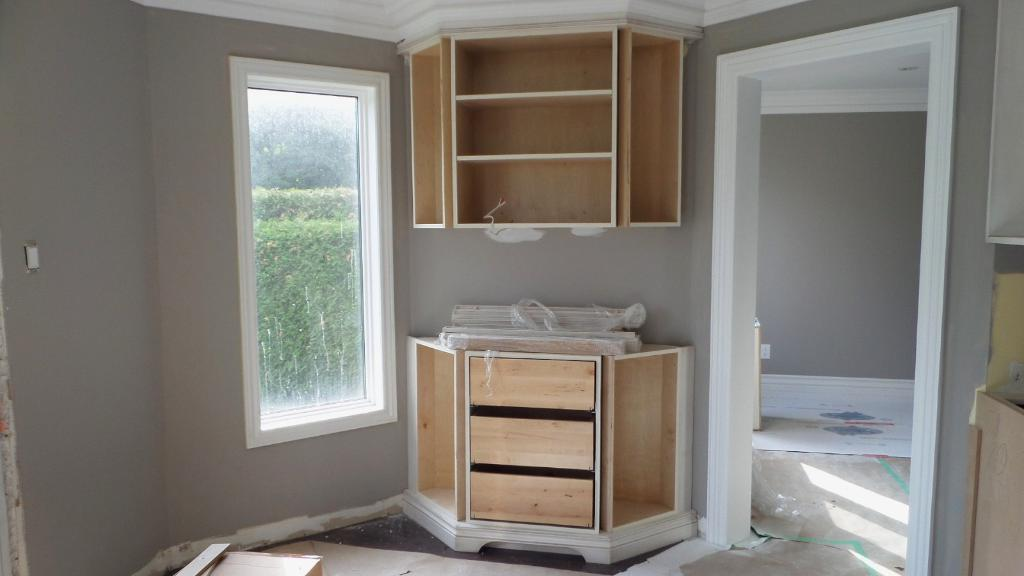cabinet door: (468, 353, 590, 413), (472, 412, 595, 466), (474, 467, 596, 519)
handle: (475, 398, 594, 428), (472, 461, 598, 488)
